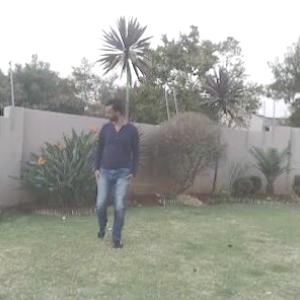follow: (90, 94, 140, 250)
